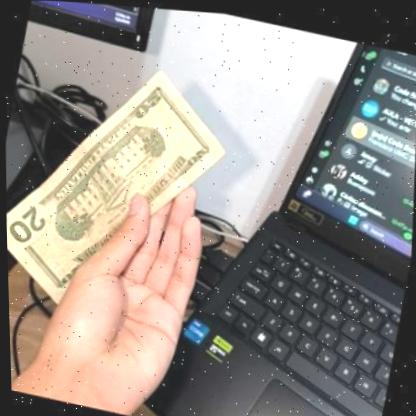dollar_back: (1, 36, 245, 336)
